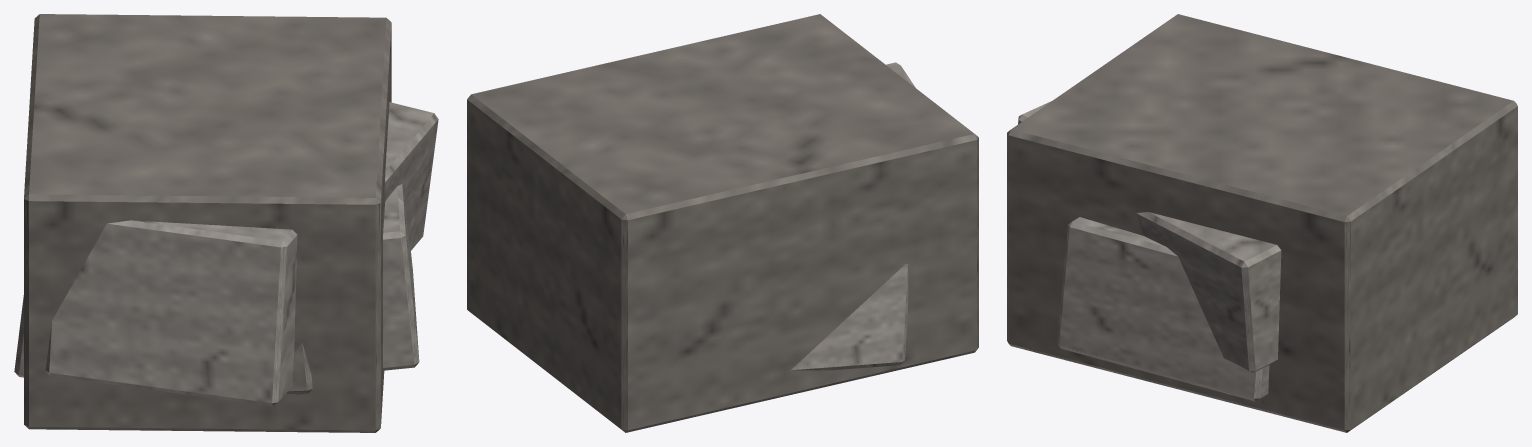
The model's file is Rocher_Grand_C.obj.
3 renders of one model, left to right at view 1: azimuth 30°, elevation 25°; view 2: azimuth 150°, elevation 25°; view 3: azimuth 270°, elevation 25°, orthographic. The views are drawn at different scales.
Parts seen in each view (by area): view 1: Rocher_Grand_C; view 2: Rocher_Grand_C; view 3: Rocher_Grand_C.
Part boxes in pixels (x1,y1,x2,y2): Rocher_Grand_C: (14, 14, 438, 432); Rocher_Grand_C: (467, 14, 978, 432); Rocher_Grand_C: (1007, 14, 1517, 432).
Size of the model in its own units: 6.2 by 3.12 by 6.51.
Materials: 1 (1 with a texture image).
